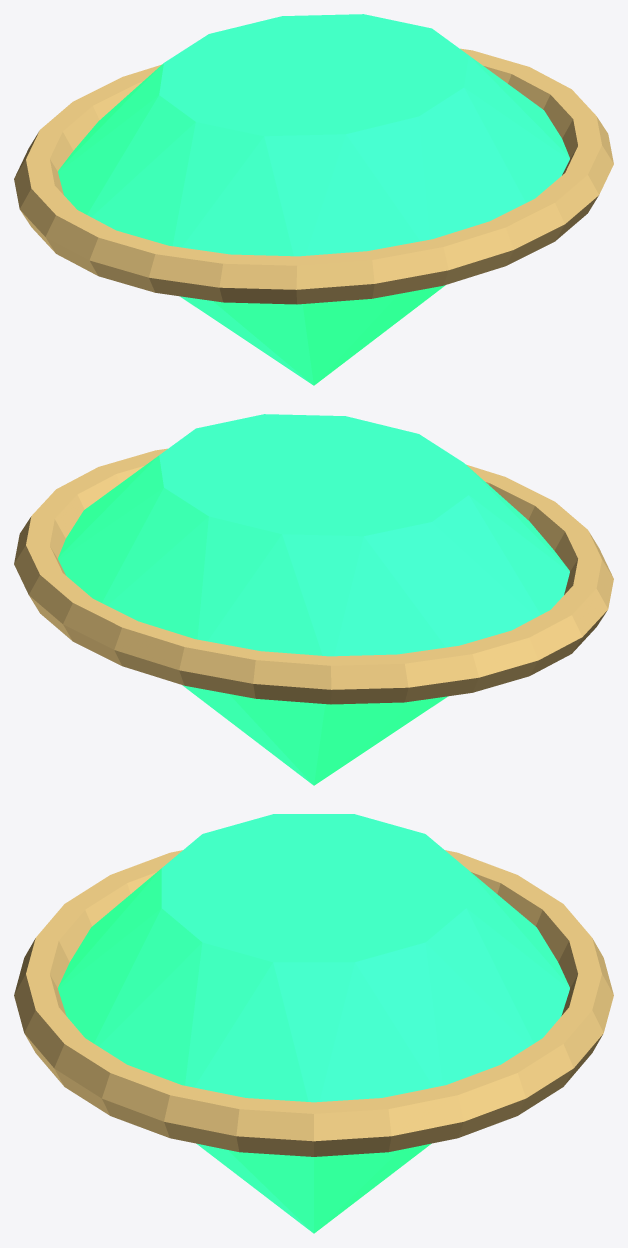
File: gem_emerald_royal.glb
3 views of the same model, one above another, from view 1: azimuth 30°, elevation 25°; view 2: azimuth 150°, elevation 25°; view 3: azimuth 270°, elevation 25° (orthographic). The views are drawn at different scales.
Parts seen in each view (by area): view 1: gem_emerald_5, Torus; view 2: gem_emerald_5, Torus; view 3: gem_emerald_5, Torus.
Part boxes in pixels (x1,y1,x2,y2): gem_emerald_5: (58,14,569,385); Torus: (14,48,613,304); gem_emerald_5: (58,414,569,785); Torus: (14,448,613,704); gem_emerald_5: (58,814,569,1233); Torus: (14,850,613,1156).
Bounding box in the file's own units: 0.1509 × 0.0834 × 0.1312.
